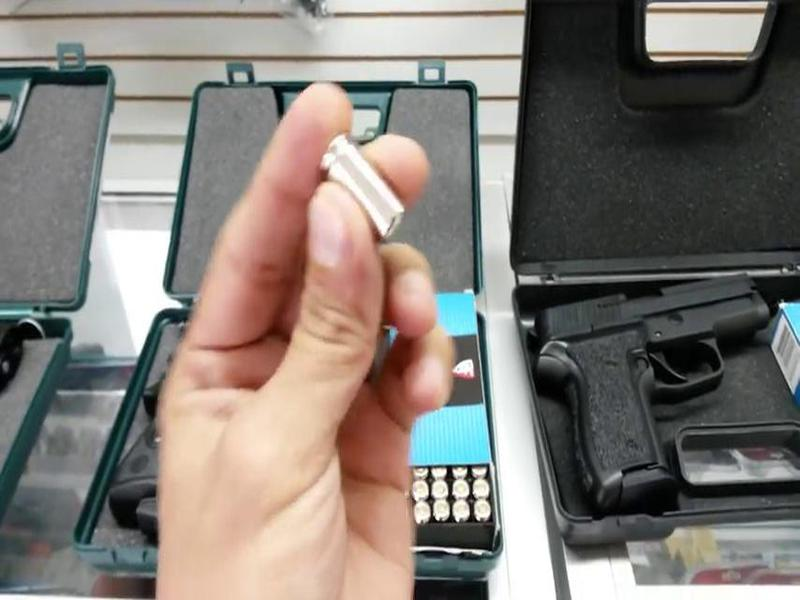Pistola: (534, 261, 773, 495)
